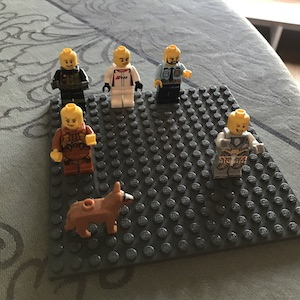Lego: (211, 109, 261, 185), (46, 107, 99, 173), (51, 47, 88, 112), (103, 46, 139, 110), (153, 45, 190, 106)
